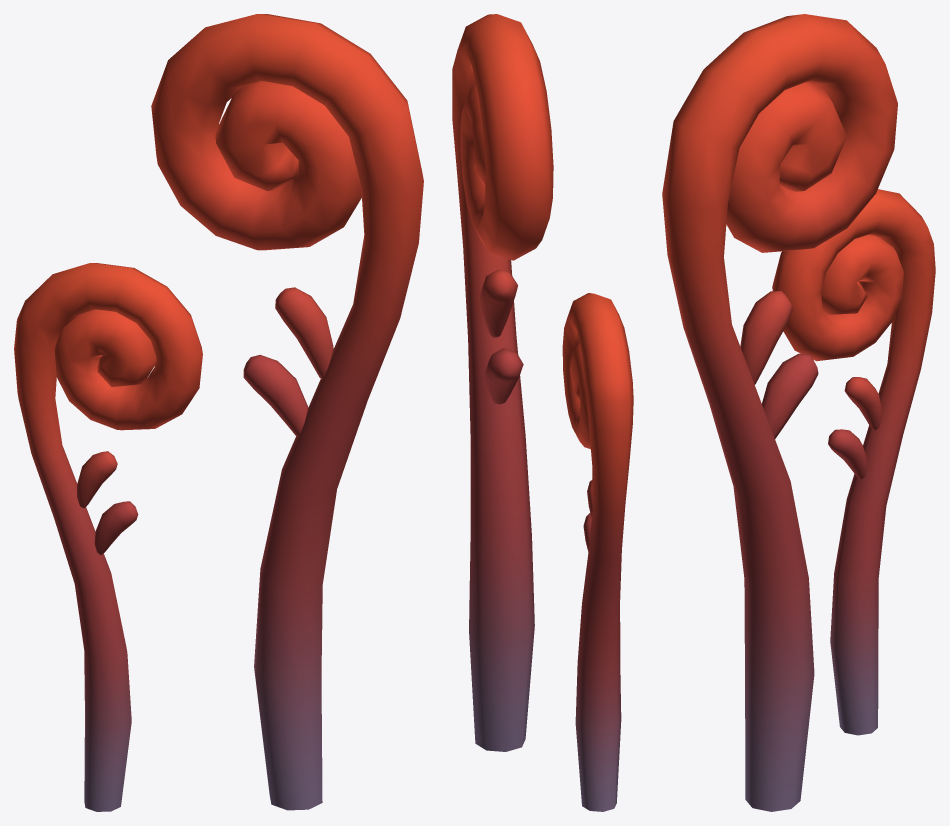
Rendered from Plants_036.fbx.
The picture shows the model from 3 angles, left to right: view 1: azimuth 30°, elevation 25°; view 2: azimuth 150°, elevation 25°; view 3: azimuth 270°, elevation 25°; orthographic projection. The views are drawn at different scales.
Parts seen in each view (by area): view 1: Plants.036; view 2: Plants.036; view 3: Plants.036.
Part boxes in pixels (left/top/right/bottom): Plants.036: left=14, top=14, right=423, bottom=811; Plants.036: left=452, top=14, right=633, bottom=811; Plants.036: left=662, top=14, right=935, bottom=811.
Bounding box in the file's own units: 371 × 934 × 299.
